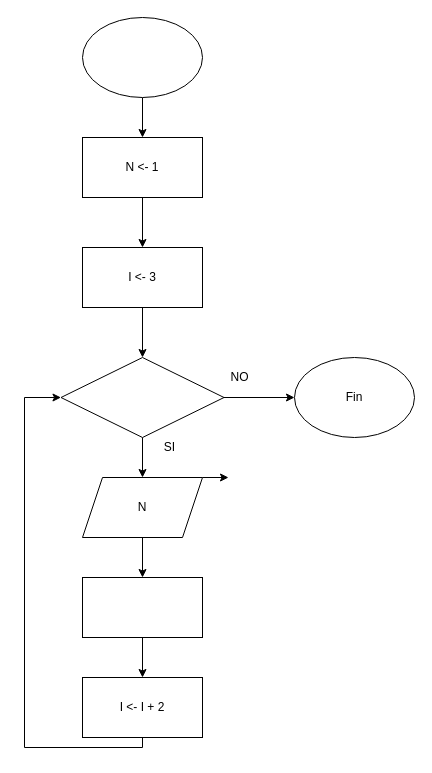
This 432x773 diagram has some shape labels left out. The shapes that lost their labels are listed below. From the top down, each one's box as (x1, y1, x2, y2) in pixels, then its label:
(82, 16, 202, 98): Inicio
(60, 356, 224, 438): MIENTRAS N <= 100
(82, 576, 202, 638): N <- N + I
